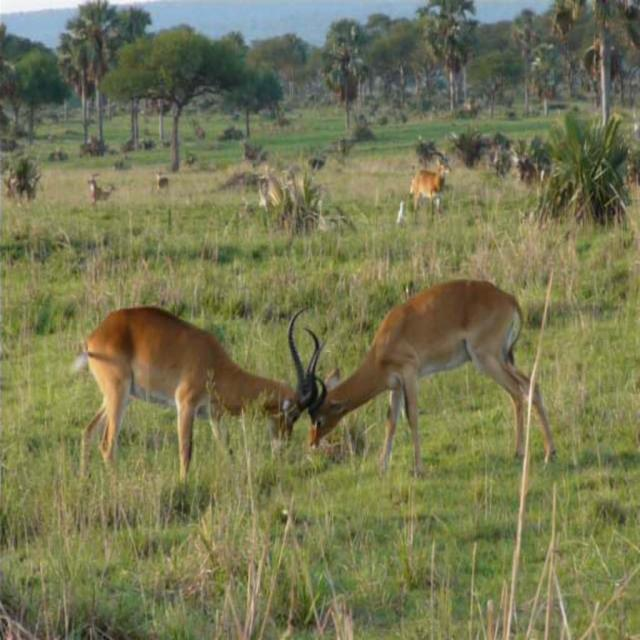Deer: (306, 278, 558, 480), (69, 307, 319, 489), (410, 145, 452, 215), (88, 171, 114, 207), (156, 170, 170, 196)
